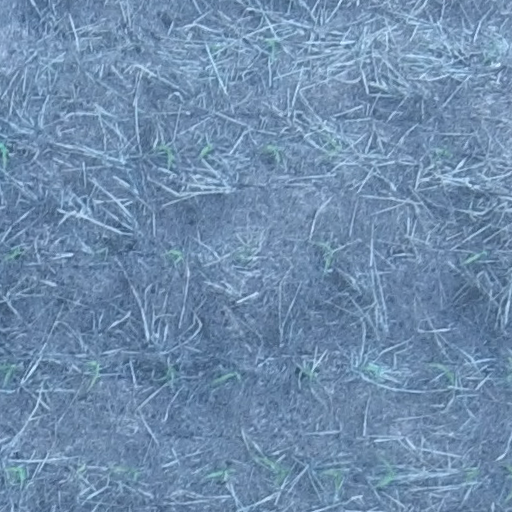planta: (259, 455, 288, 484), (430, 362, 456, 385), (376, 460, 397, 488), (156, 142, 175, 170), (260, 143, 282, 165), (321, 469, 343, 491), (86, 360, 101, 389), (317, 241, 333, 268), (321, 137, 341, 158), (5, 465, 27, 484), (152, 365, 176, 381), (208, 467, 230, 483), (196, 143, 212, 161), (262, 39, 275, 61), (212, 372, 238, 383), (464, 250, 485, 263), (363, 365, 383, 376), (167, 250, 183, 262), (434, 147, 451, 158)
